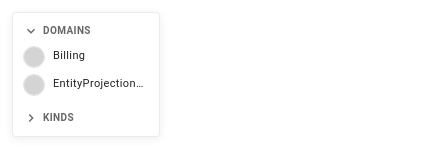
ErdFilterPanel › gives a cut label a tooltip and a fitting one none
This screenshot has width=448, height=160.
Hover over the button with test id "erd-filter-label" at [86, 57], box [23, 46, 149, 68]
Hover over the button with test id "erd-filter-label" at [86, 85], box [23, 74, 149, 96]
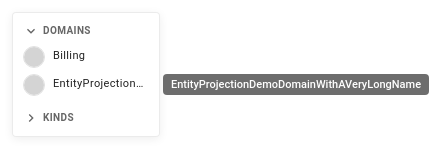
Check: the tooltip "EntityProjectionDemoDomainWithAVeryLongName" is shown, box [149, 72, 431, 97]
Check: the tooltip reads "EntityProjectionDemoDomainWithAVeryLongName", box [171, 78, 421, 91]
